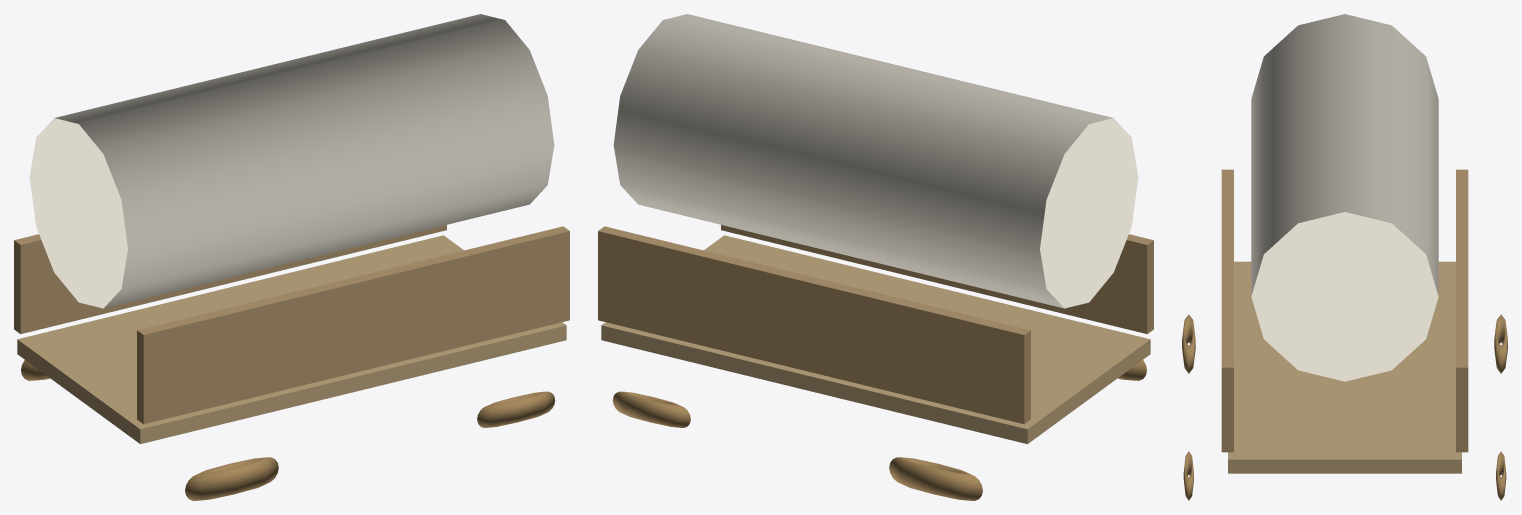
Rendered from env-ww-wagon.glb.
3 views of the same model, side by side, from view 1: azimuth 30°, elevation 25°; view 2: azimuth 150°, elevation 25°; view 3: azimuth 270°, elevation 25° (orthographic). The views are drawn at different scales.
Bounding box in the file's own units: 3 × 2.19 × 2.09.
